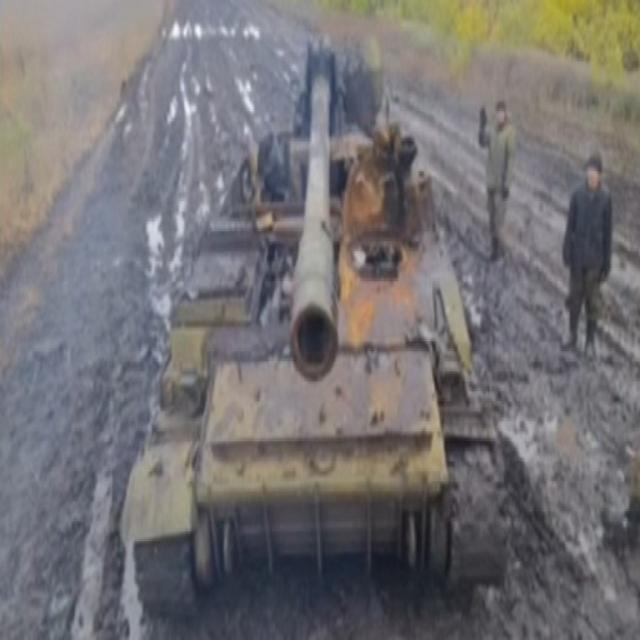ART: (124, 35, 508, 618)
